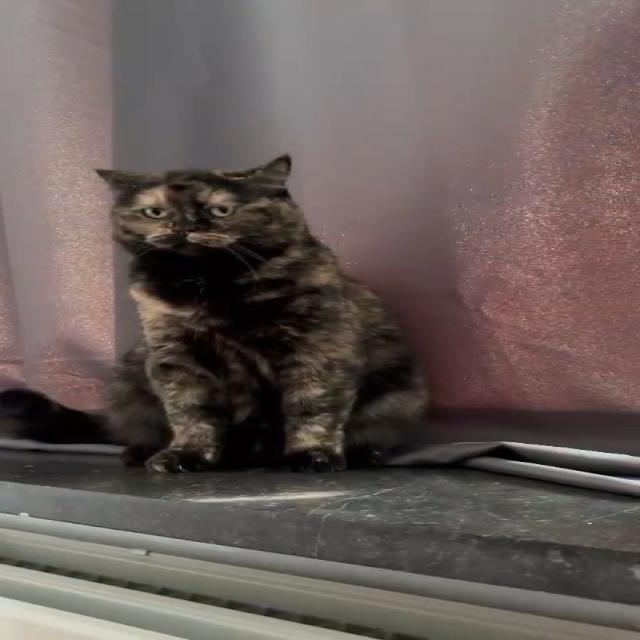authorized: (92, 152, 431, 473)
